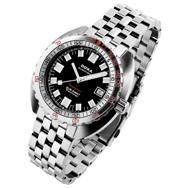watch: (29, 27, 130, 130)
